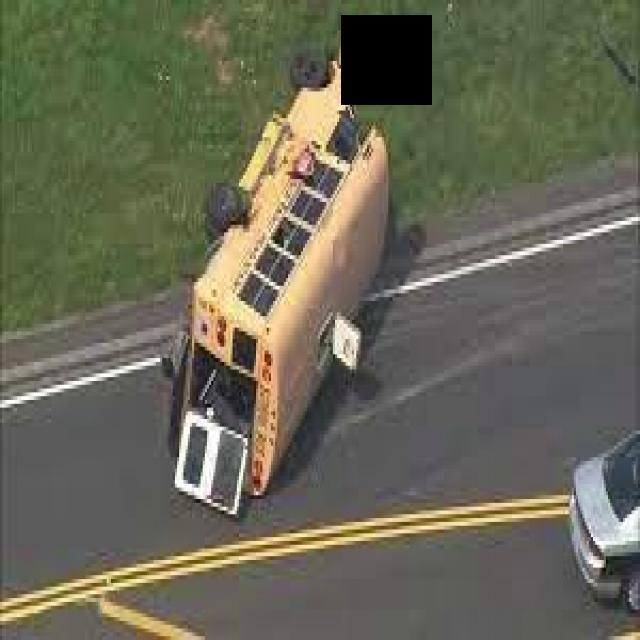accident: (157, 14, 394, 513)
